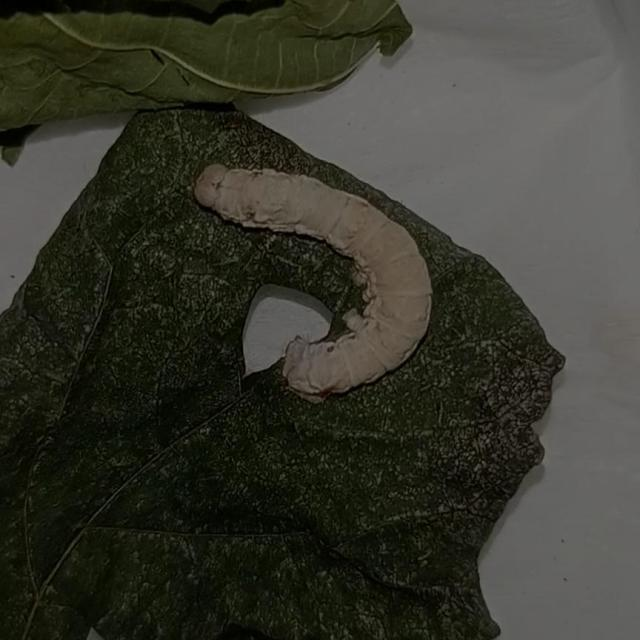Healthy: (186, 159, 441, 404)
